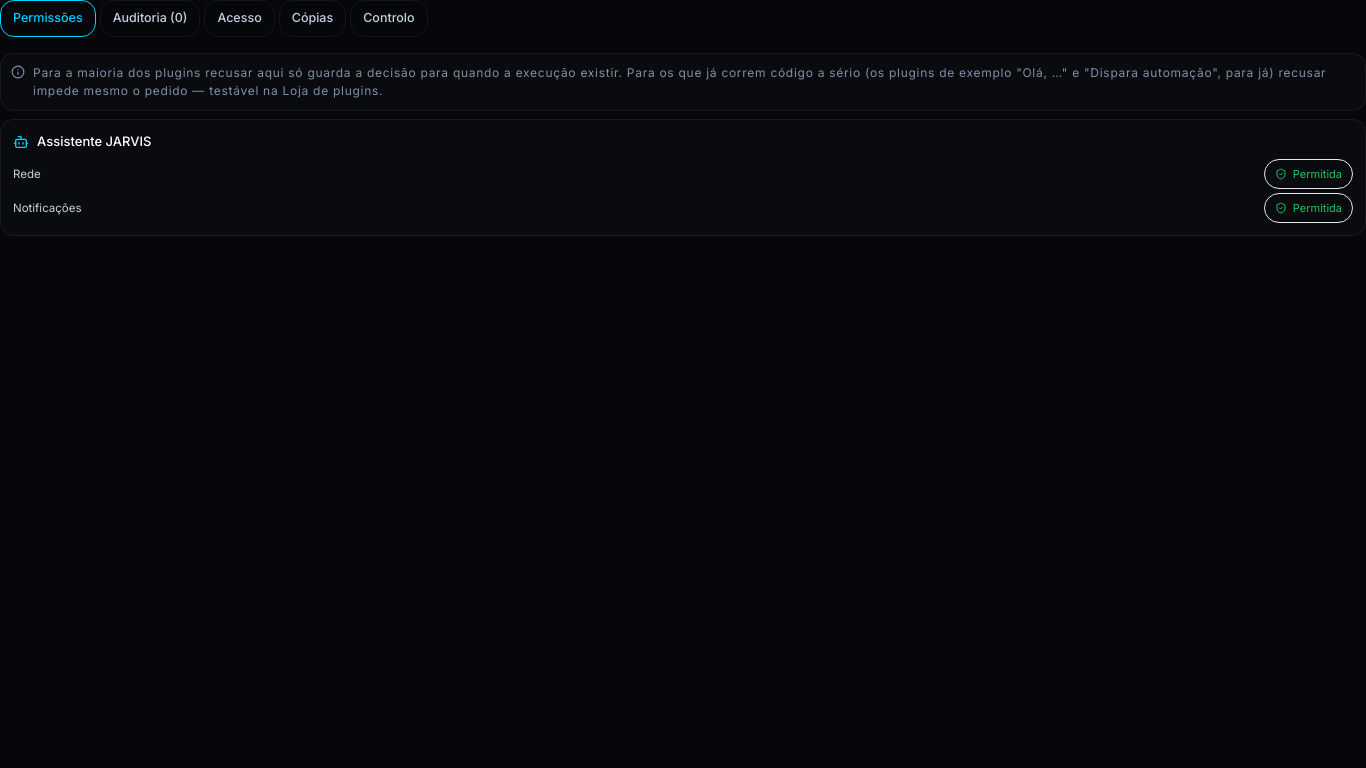
Test: chave física (WebAuthn) › sem suporte WebAuthn no browser, diz isso sem rodeios
The image size is (1366, 768).
Click the tab "Acesso": [240, 18] box left=204, top=0, right=275, bottom=37
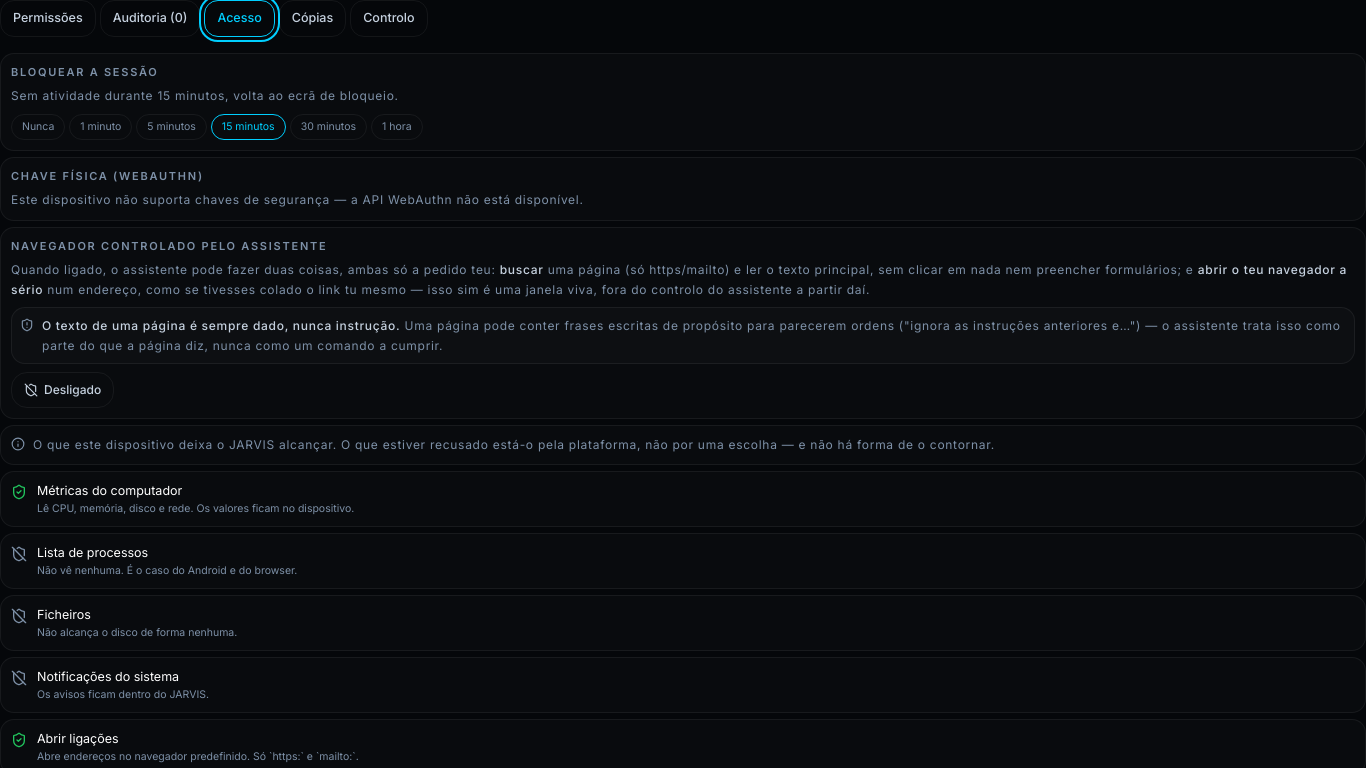
Expected: the text "não suporta chaves de segurança" is shown, left=11, top=192, right=584, bottom=207
